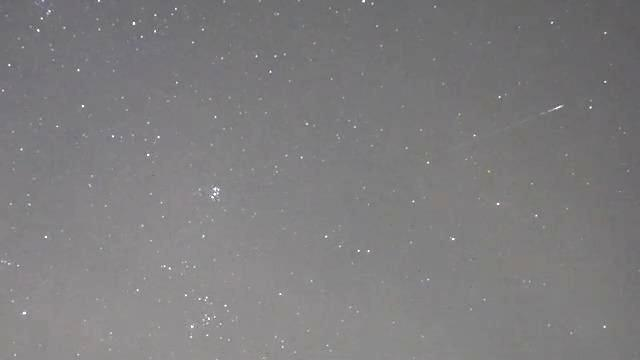meteorite: (492, 97, 570, 136)
